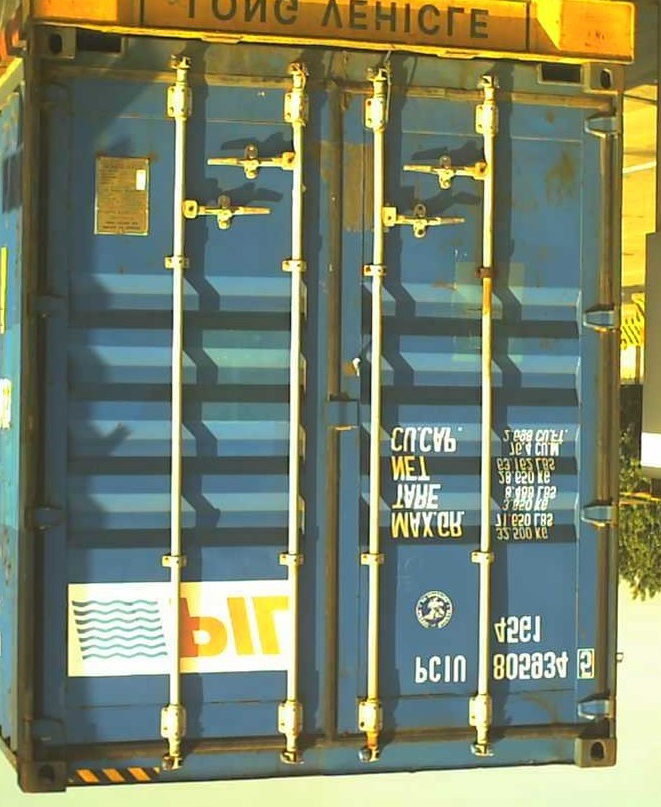container_door: (10, 38, 631, 800)
